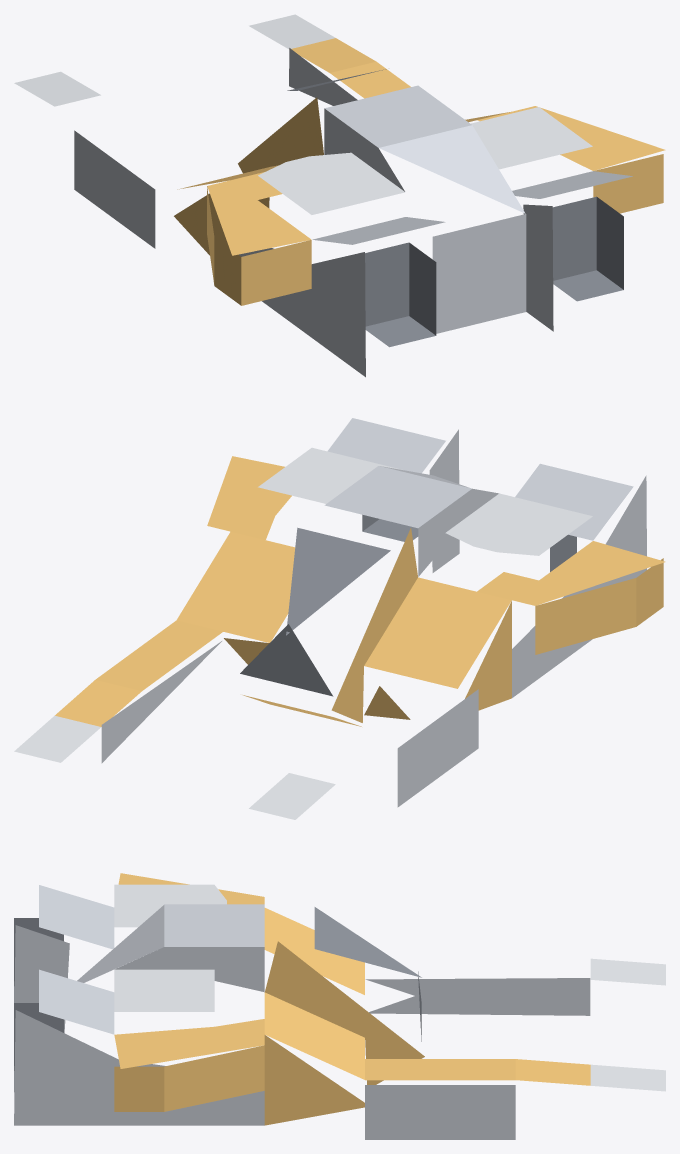
Rendered from craft_miner_lod1.glb.
The picture shows the model from 3 angles, top to bottom: view 1: azimuth 30°, elevation 25°; view 2: azimuth 150°, elevation 25°; view 3: azimuth 270°, elevation 25°; orthographic projection. The views are drawn at different scales.
Parts seen in each view (by area): view 1: craft_miner.001; view 2: craft_miner.001; view 3: craft_miner.001.
Part boxes in pixels (left/top/right/bottom): craft_miner.001: left=14, top=14, right=665, bottom=377; craft_miner.001: left=14, top=418, right=665, bottom=819; craft_miner.001: left=14, top=873, right=665, bottom=1139.
Bounding box in the file's own units: 1.85 × 0.7253 × 2.6.
